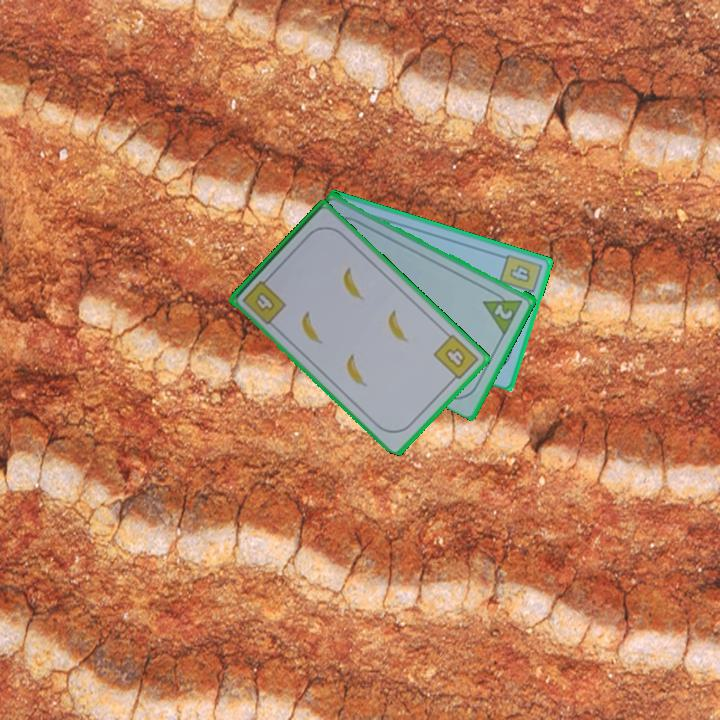2p: (480, 285, 526, 336)
4b: (430, 331, 481, 386), (496, 250, 545, 302), (254, 291, 278, 314)
